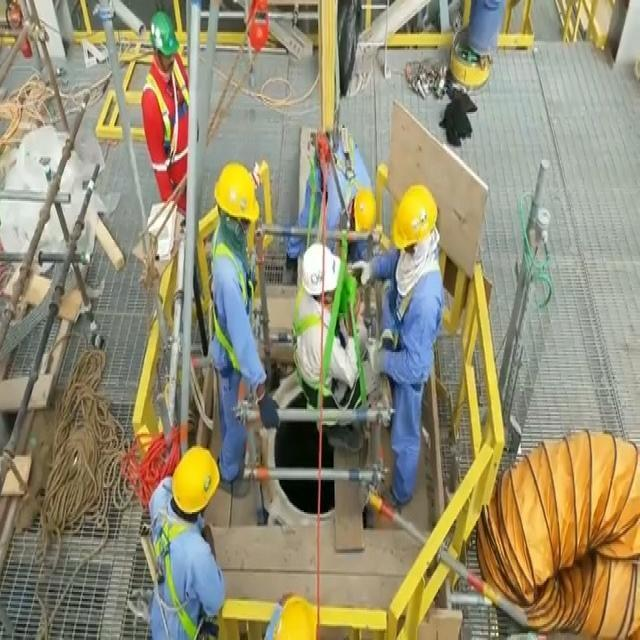Person: (147, 446, 228, 640)
